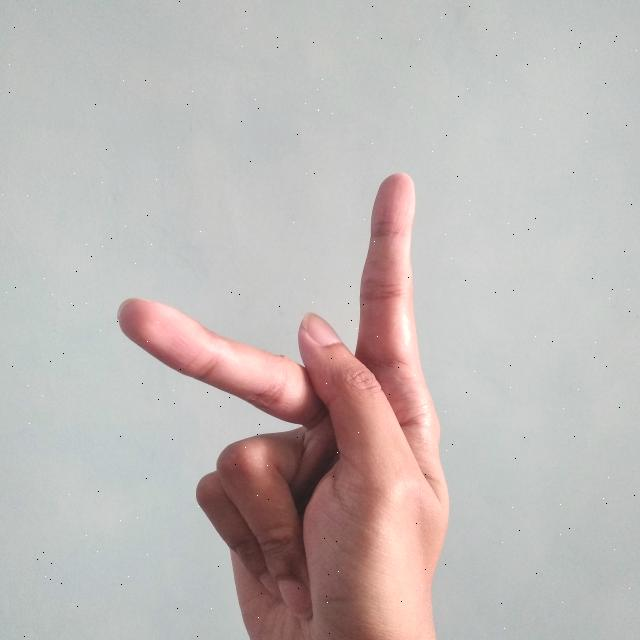K: (112, 166, 465, 640)
